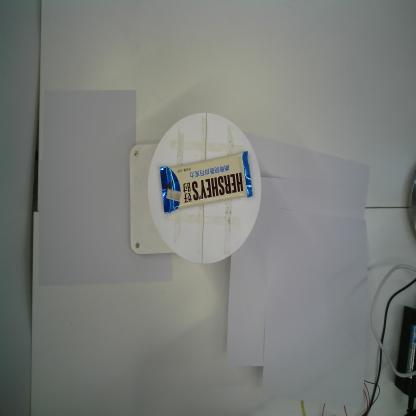Chocolate: (159, 148, 253, 216)
